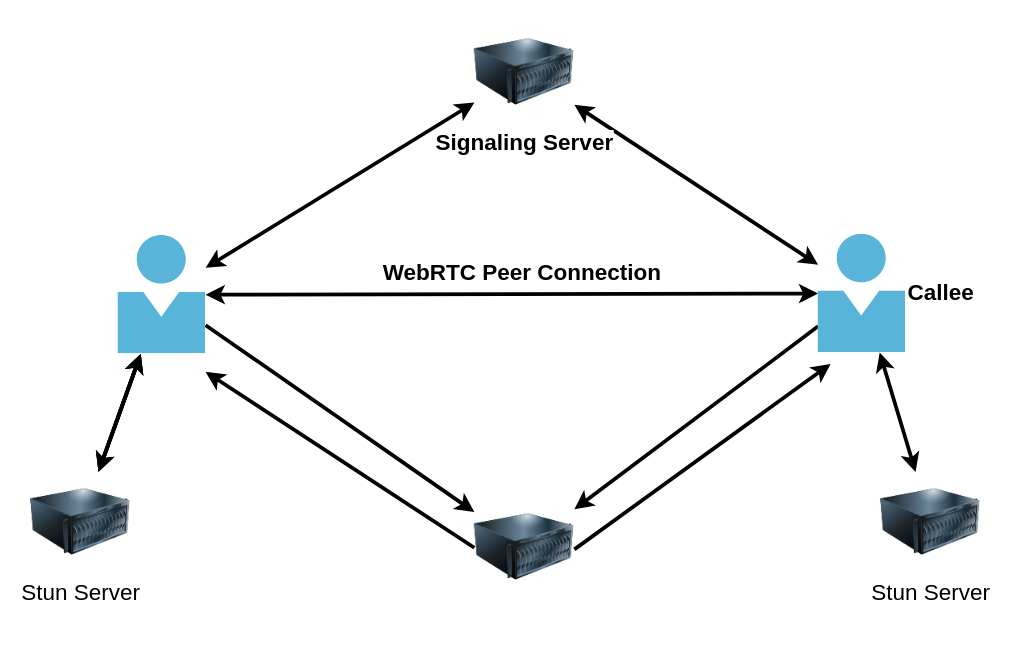
The diagram is 1011 pixels wide and 654 high, and some of its shapes have lost their labels. The shapes that lost their labels are listed below. From the top down, each one's centre as x and y in pixels, then its label:
the point at 161,294: Caller
the point at 524,546: Turn Server
